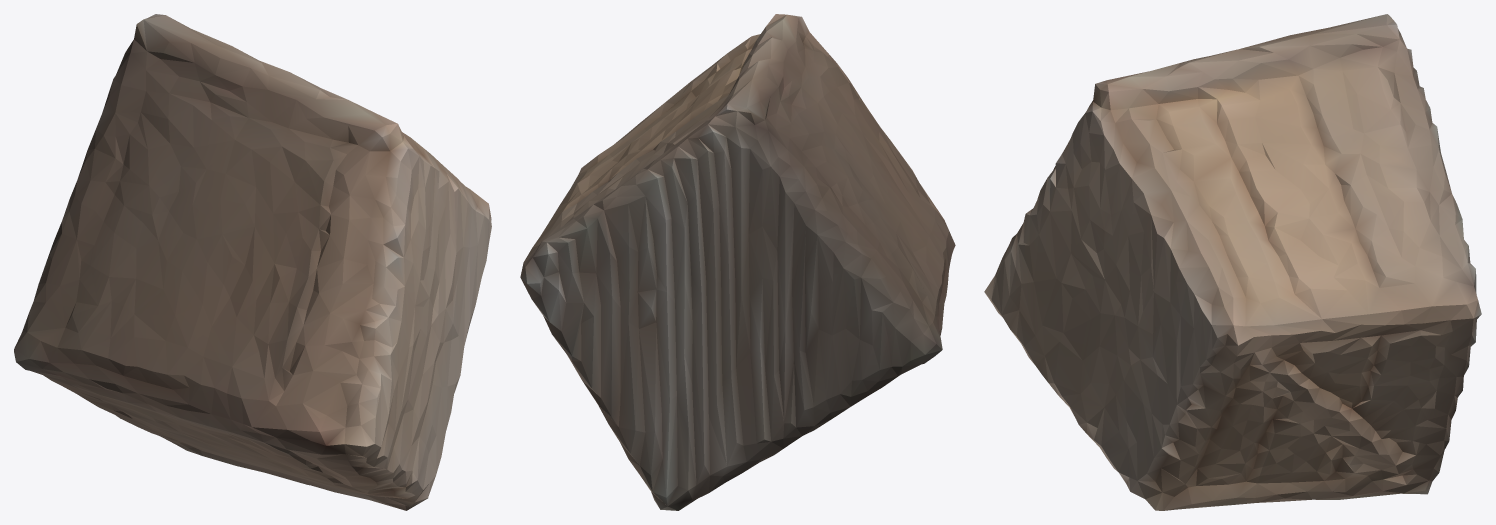
The model's file is crate.glb.
3 views of the same model, side by side, from view 1: azimuth 30°, elevation 25°; view 2: azimuth 150°, elevation 25°; view 3: azimuth 270°, elevation 25° (orthographic). The views are drawn at different scales.
Parts seen in each view (by area): view 1: geometry_0; view 2: geometry_0; view 3: geometry_0.
Part boxes in pixels (x1,y1,x2,y2): geometry_0: (14, 14, 491, 510); geometry_0: (520, 14, 955, 510); geometry_0: (984, 14, 1481, 510).
Bounding box in the file's own units: 0.8 × 0.786 × 0.7976.
